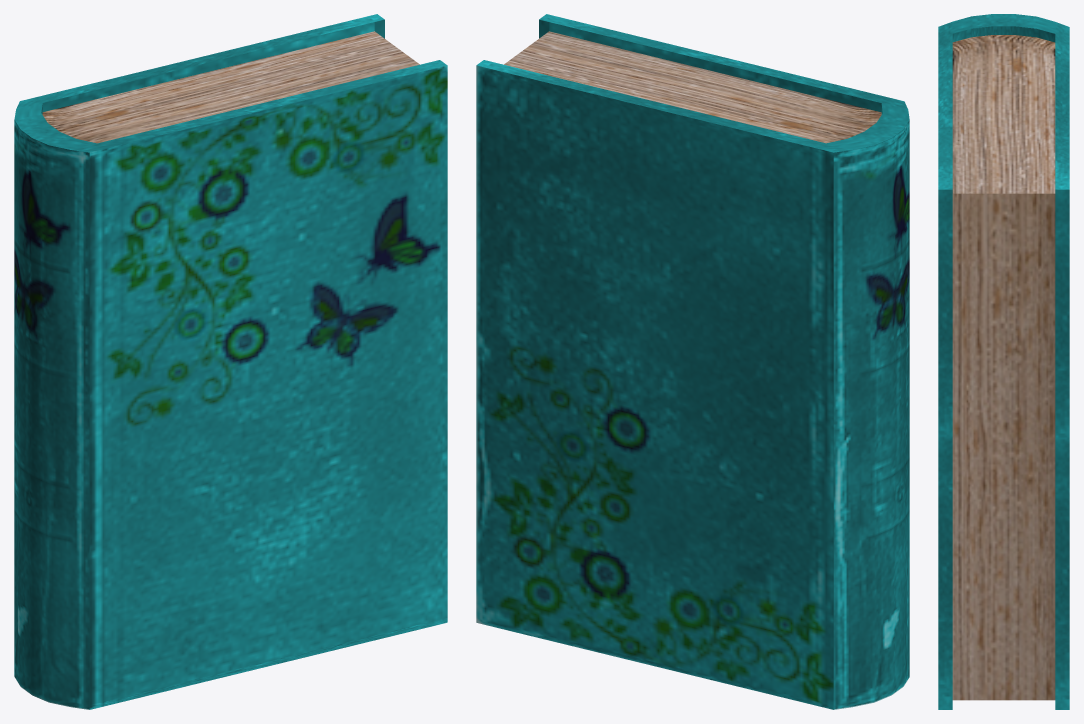
File: Book_Tuerkis.FBX
The picture shows the model from 3 angles, left to right: view 1: azimuth 30°, elevation 25°; view 2: azimuth 150°, elevation 25°; view 3: azimuth 270°, elevation 25°; orthographic projection. The views are drawn at different scales.
Visible parts, largest first — view 1: book_placeholder003; view 2: book_placeholder003; view 3: book_placeholder003.
Part boxes in pixels (x1=…): book_placeholder003: x1=14, y1=14, x2=447, y2=709; book_placeholder003: x1=476, y1=14, x2=909, y2=709; book_placeholder003: x1=938, y1=14, x2=1069, y2=709.
Bounding box in the file's own units: 148 × 205 × 46.74.
